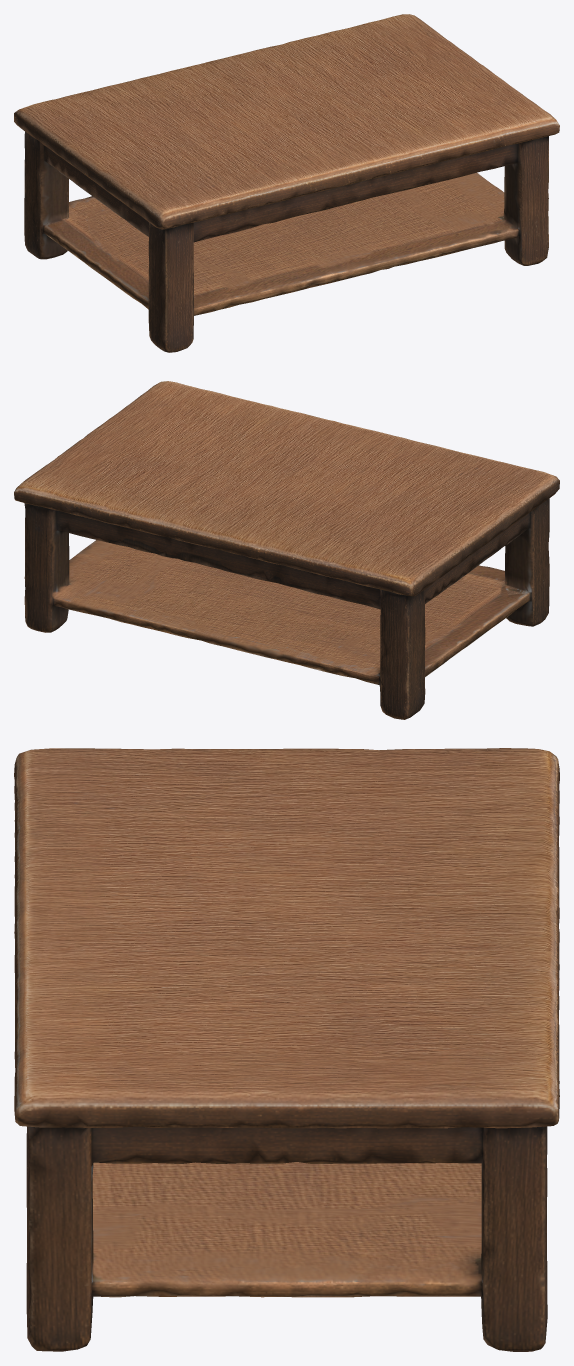
The model's file is VAR_LivingRoom_CoffeeTable.fbx.
The picture shows the model from 3 angles, top to bottom: view 1: azimuth 30°, elevation 25°; view 2: azimuth 150°, elevation 25°; view 3: azimuth 270°, elevation 25°; orthographic projection. The views are drawn at different scales.
Parts seen in each view (by area): view 1: texture_mapping; view 2: texture_mapping; view 3: texture_mapping.
Boxes of the visible parts, x1,y1,x2,y2 form: texture_mapping: [14, 14, 559, 352]; texture_mapping: [14, 381, 559, 719]; texture_mapping: [14, 748, 559, 1351].
Size of the model in its own units: 0.9962 by 0.6457 by 0.3489.
Materials: 1 (1 with a texture image).
